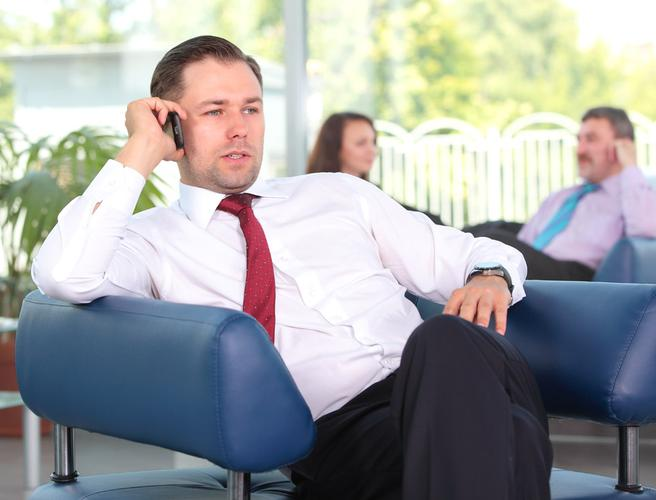calling: (123, 95, 190, 166)
